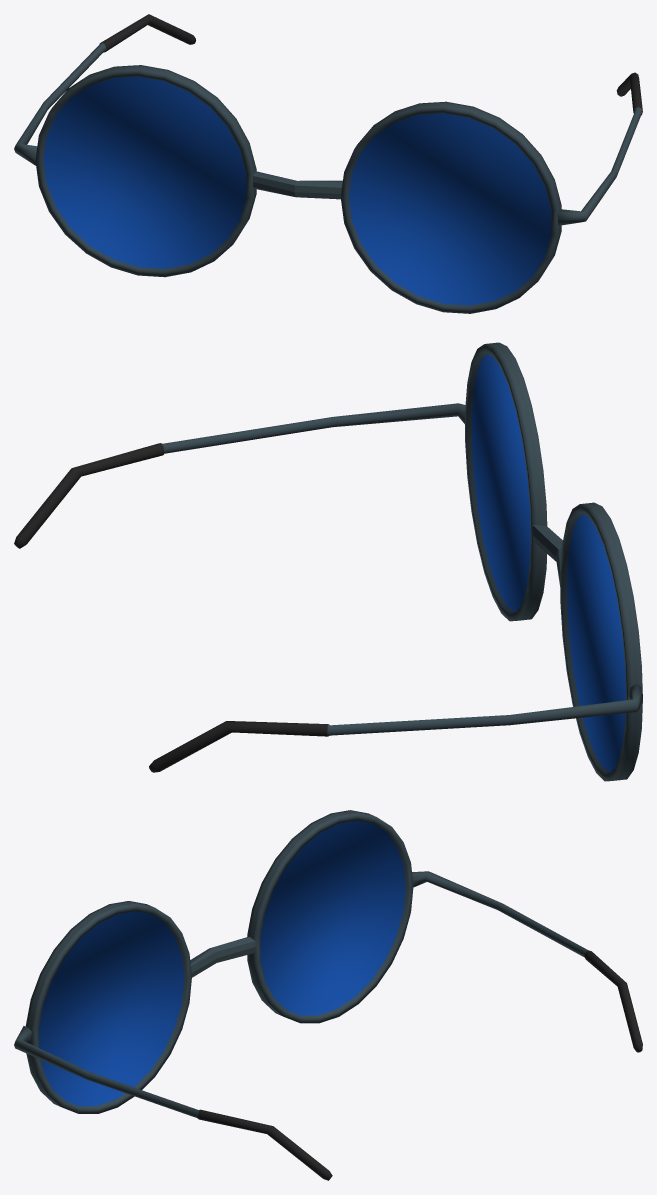
Rendered from blueglasses.gltf.
3 views of the same model, one above another, from view 1: azimuth 30°, elevation 25°; view 2: azimuth 150°, elevation 25°; view 3: azimuth 270°, elevation 25° (orthographic). The views are drawn at different scales.
Parts seen in each view (by area): view 1: glasses_blue; view 2: glasses_blue; view 3: glasses_blue.
Part boxes in pixels (box(x1,y1,x2,y2)): glasses_blue: box(14, 14, 642, 313); glasses_blue: box(14, 342, 642, 781); glasses_blue: box(14, 810, 642, 1180).
Bounding box in the file's own units: 0.3248 × 0.1143 × 0.326.
Materials: 2 (2 with a texture image).
